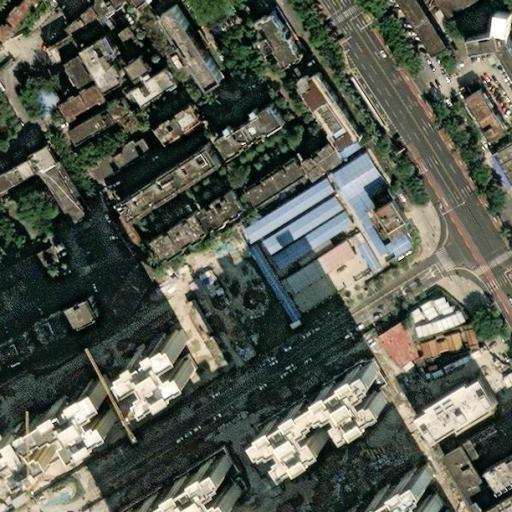building: (256, 362, 384, 469), (0, 370, 108, 466), (327, 156, 405, 260), (253, 362, 366, 433), (105, 143, 205, 219), (130, 453, 241, 512), (121, 449, 223, 512), (0, 146, 76, 220), (237, 183, 327, 243), (410, 379, 491, 443), (291, 63, 353, 144), (336, 462, 434, 512), (155, 9, 214, 90), (266, 213, 347, 272), (257, 199, 338, 257), (115, 326, 185, 392), (239, 247, 293, 326), (456, 14, 512, 90), (274, 241, 349, 297), (206, 98, 274, 154), (27, 293, 94, 340), (138, 212, 196, 261), (236, 158, 294, 207), (102, 261, 149, 320), (88, 139, 148, 185), (443, 454, 489, 509), (81, 35, 123, 91), (256, 6, 299, 60), (462, 422, 512, 467), (183, 188, 233, 231), (465, 96, 506, 147), (50, 79, 99, 119), (58, 105, 108, 144), (148, 102, 195, 143), (121, 63, 166, 101), (294, 139, 336, 176), (98, 216, 131, 261), (480, 449, 512, 489), (339, 235, 371, 275), (0, 249, 41, 280), (20, 84, 54, 119), (306, 404, 343, 432), (490, 146, 512, 190), (56, 52, 85, 85), (36, 33, 69, 62), (106, 25, 135, 55), (377, 204, 405, 234), (0, 327, 25, 359), (215, 466, 240, 489), (359, 375, 384, 398), (167, 495, 199, 512), (408, 339, 429, 362), (263, 440, 287, 460), (116, 54, 137, 74), (433, 335, 452, 356), (455, 326, 469, 352), (91, 205, 110, 223), (189, 273, 206, 293), (425, 341, 436, 354)
